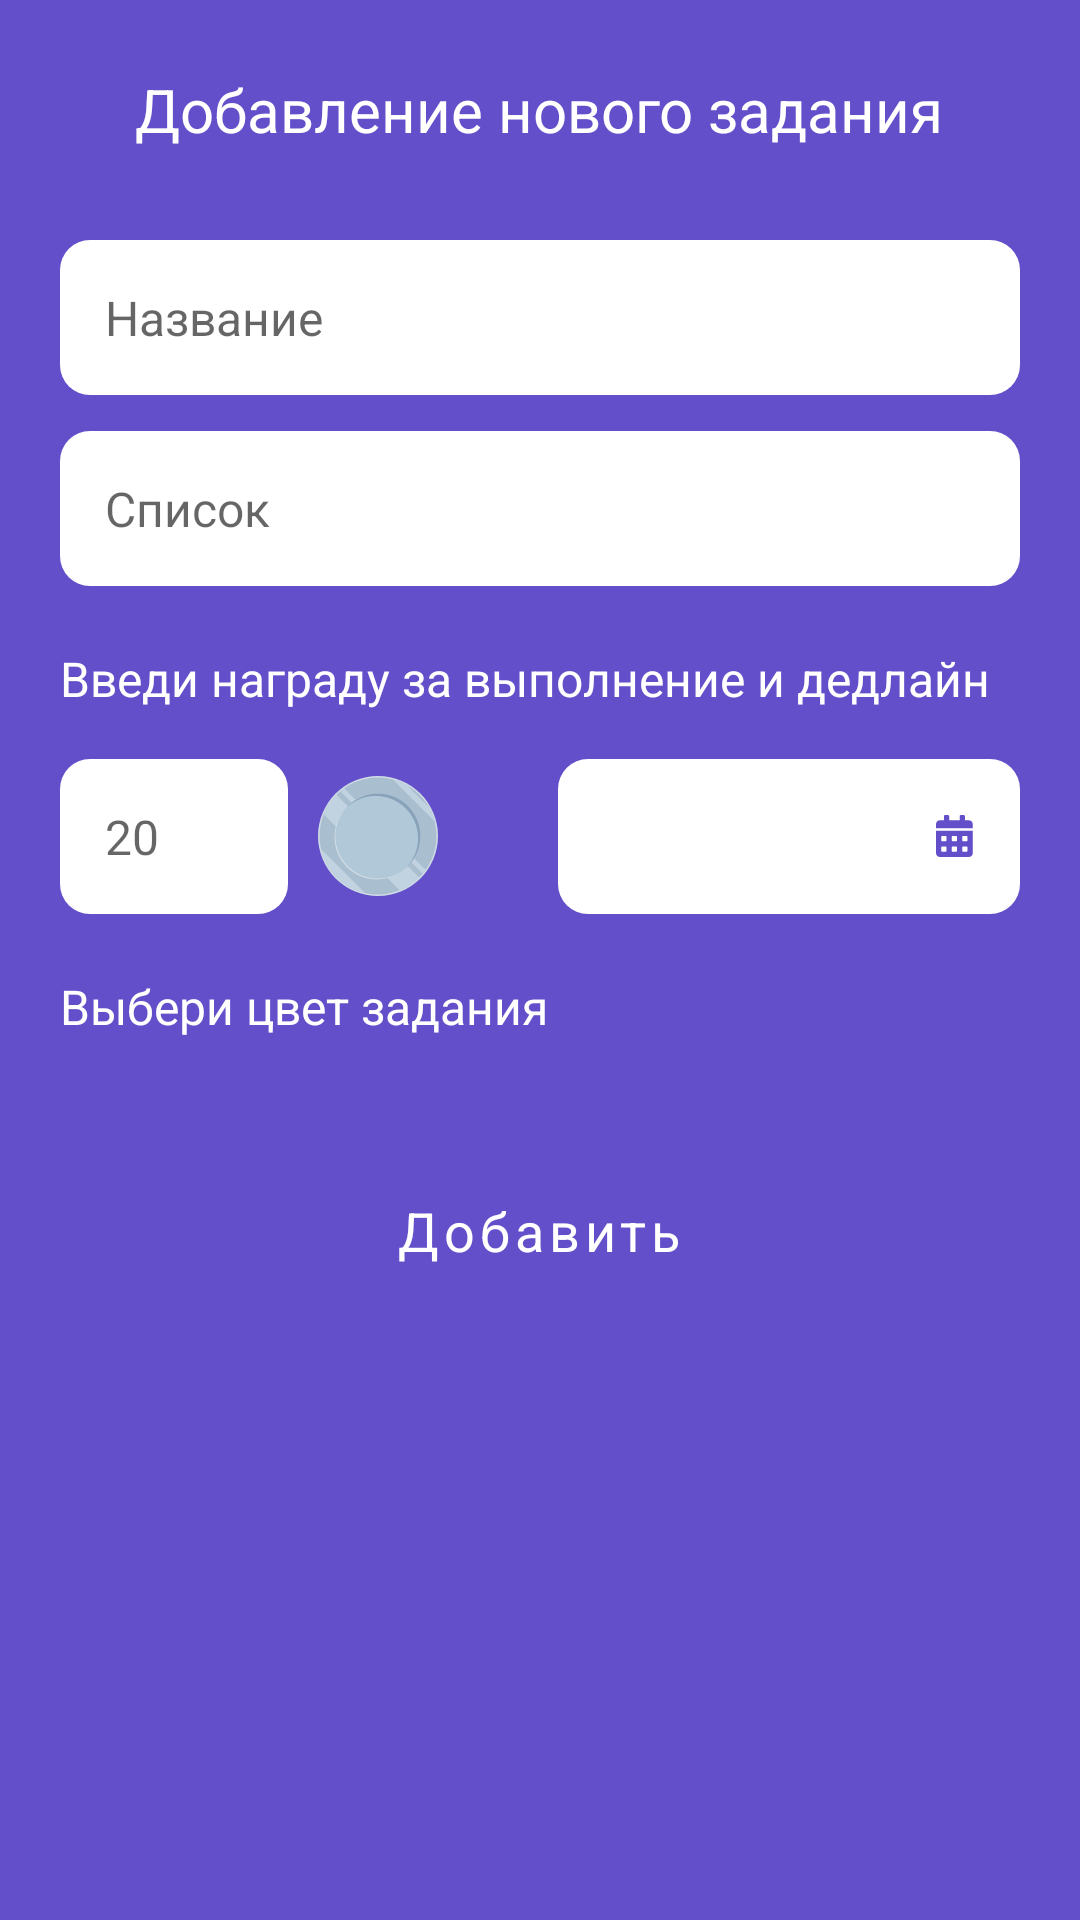

Point at icon controls on the screen. Image size 1080px x 1920px, points as (x,y).
pic silver coin: (378,836)
